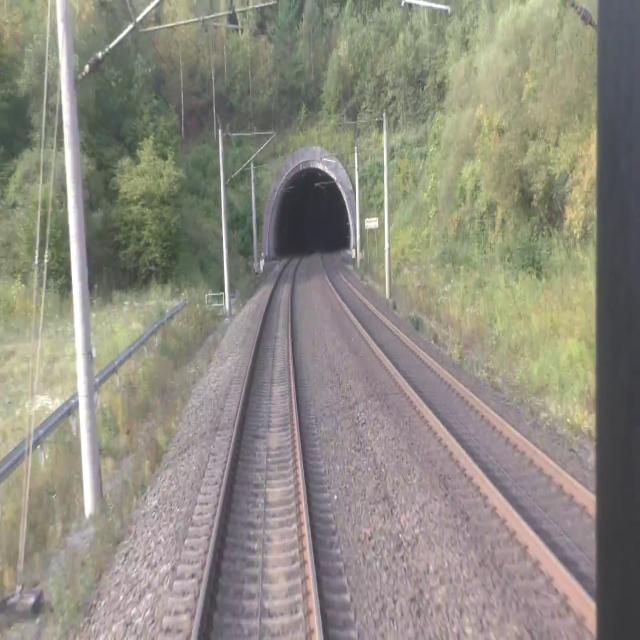rail-track: (322, 250, 640, 636), (196, 254, 318, 639)
